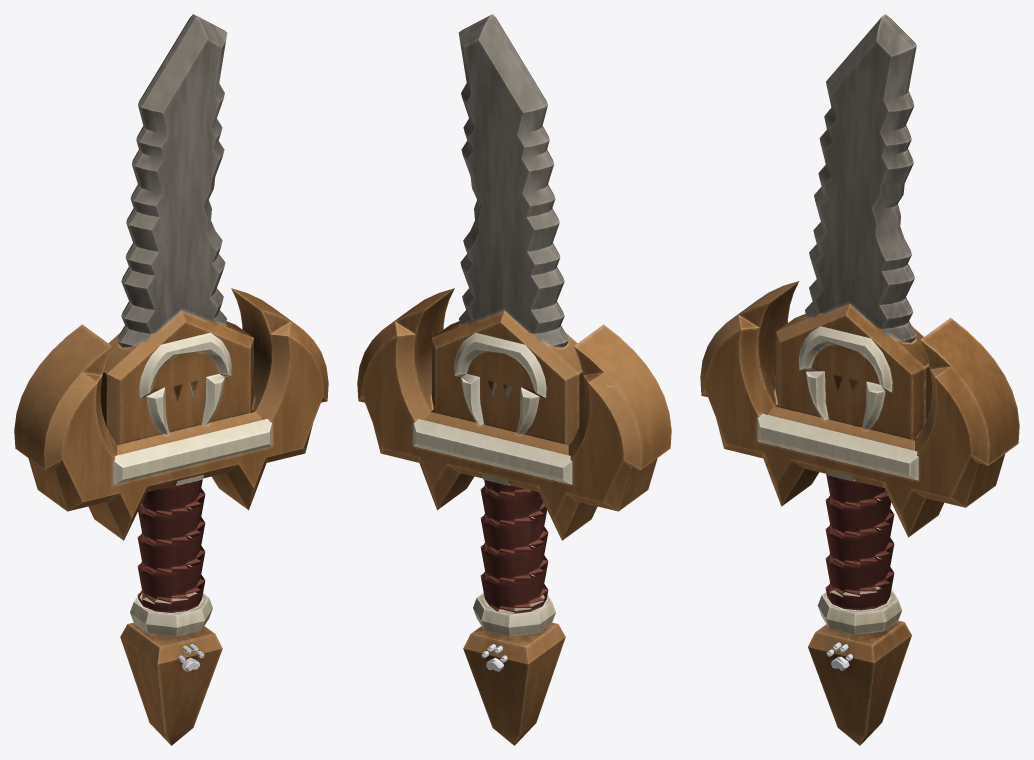
File: Dewclaw.fbx
3 renders of one model, left to right at view 1: azimuth 30°, elevation 25°; view 2: azimuth 150°, elevation 25°; view 3: azimuth 330°, elevation 25°, orthographic.
Parts seen in each view (by area): view 1: Dewclaw_Body; view 2: Dewclaw_Body; view 3: Dewclaw_Body.
Part boxes in pixels (x1,y1,x2,y2): Dewclaw_Body: (14, 14, 328, 745); Dewclaw_Body: (357, 14, 671, 745); Dewclaw_Body: (700, 14, 1019, 745).
Size of the model in its own units: 0.9941 by 2.42 by 0.3.
